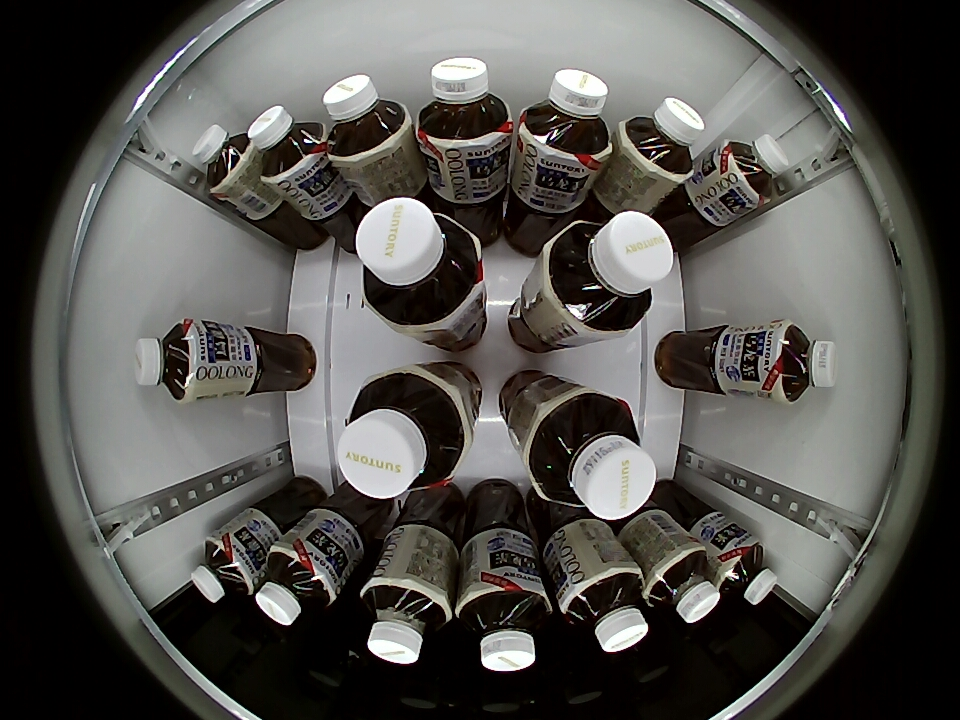wulongcha: (337, 369, 470, 499), (355, 197, 483, 327), (528, 393, 657, 521), (544, 210, 674, 335), (517, 67, 613, 168), (416, 56, 512, 149), (360, 571, 454, 665), (557, 562, 649, 654), (457, 584, 551, 673), (322, 73, 411, 163), (254, 539, 340, 626), (619, 96, 705, 181), (133, 318, 212, 402), (762, 320, 840, 404), (247, 105, 326, 182), (645, 546, 721, 624), (716, 134, 790, 206), (190, 535, 256, 604), (713, 535, 777, 606), (192, 124, 255, 193)
